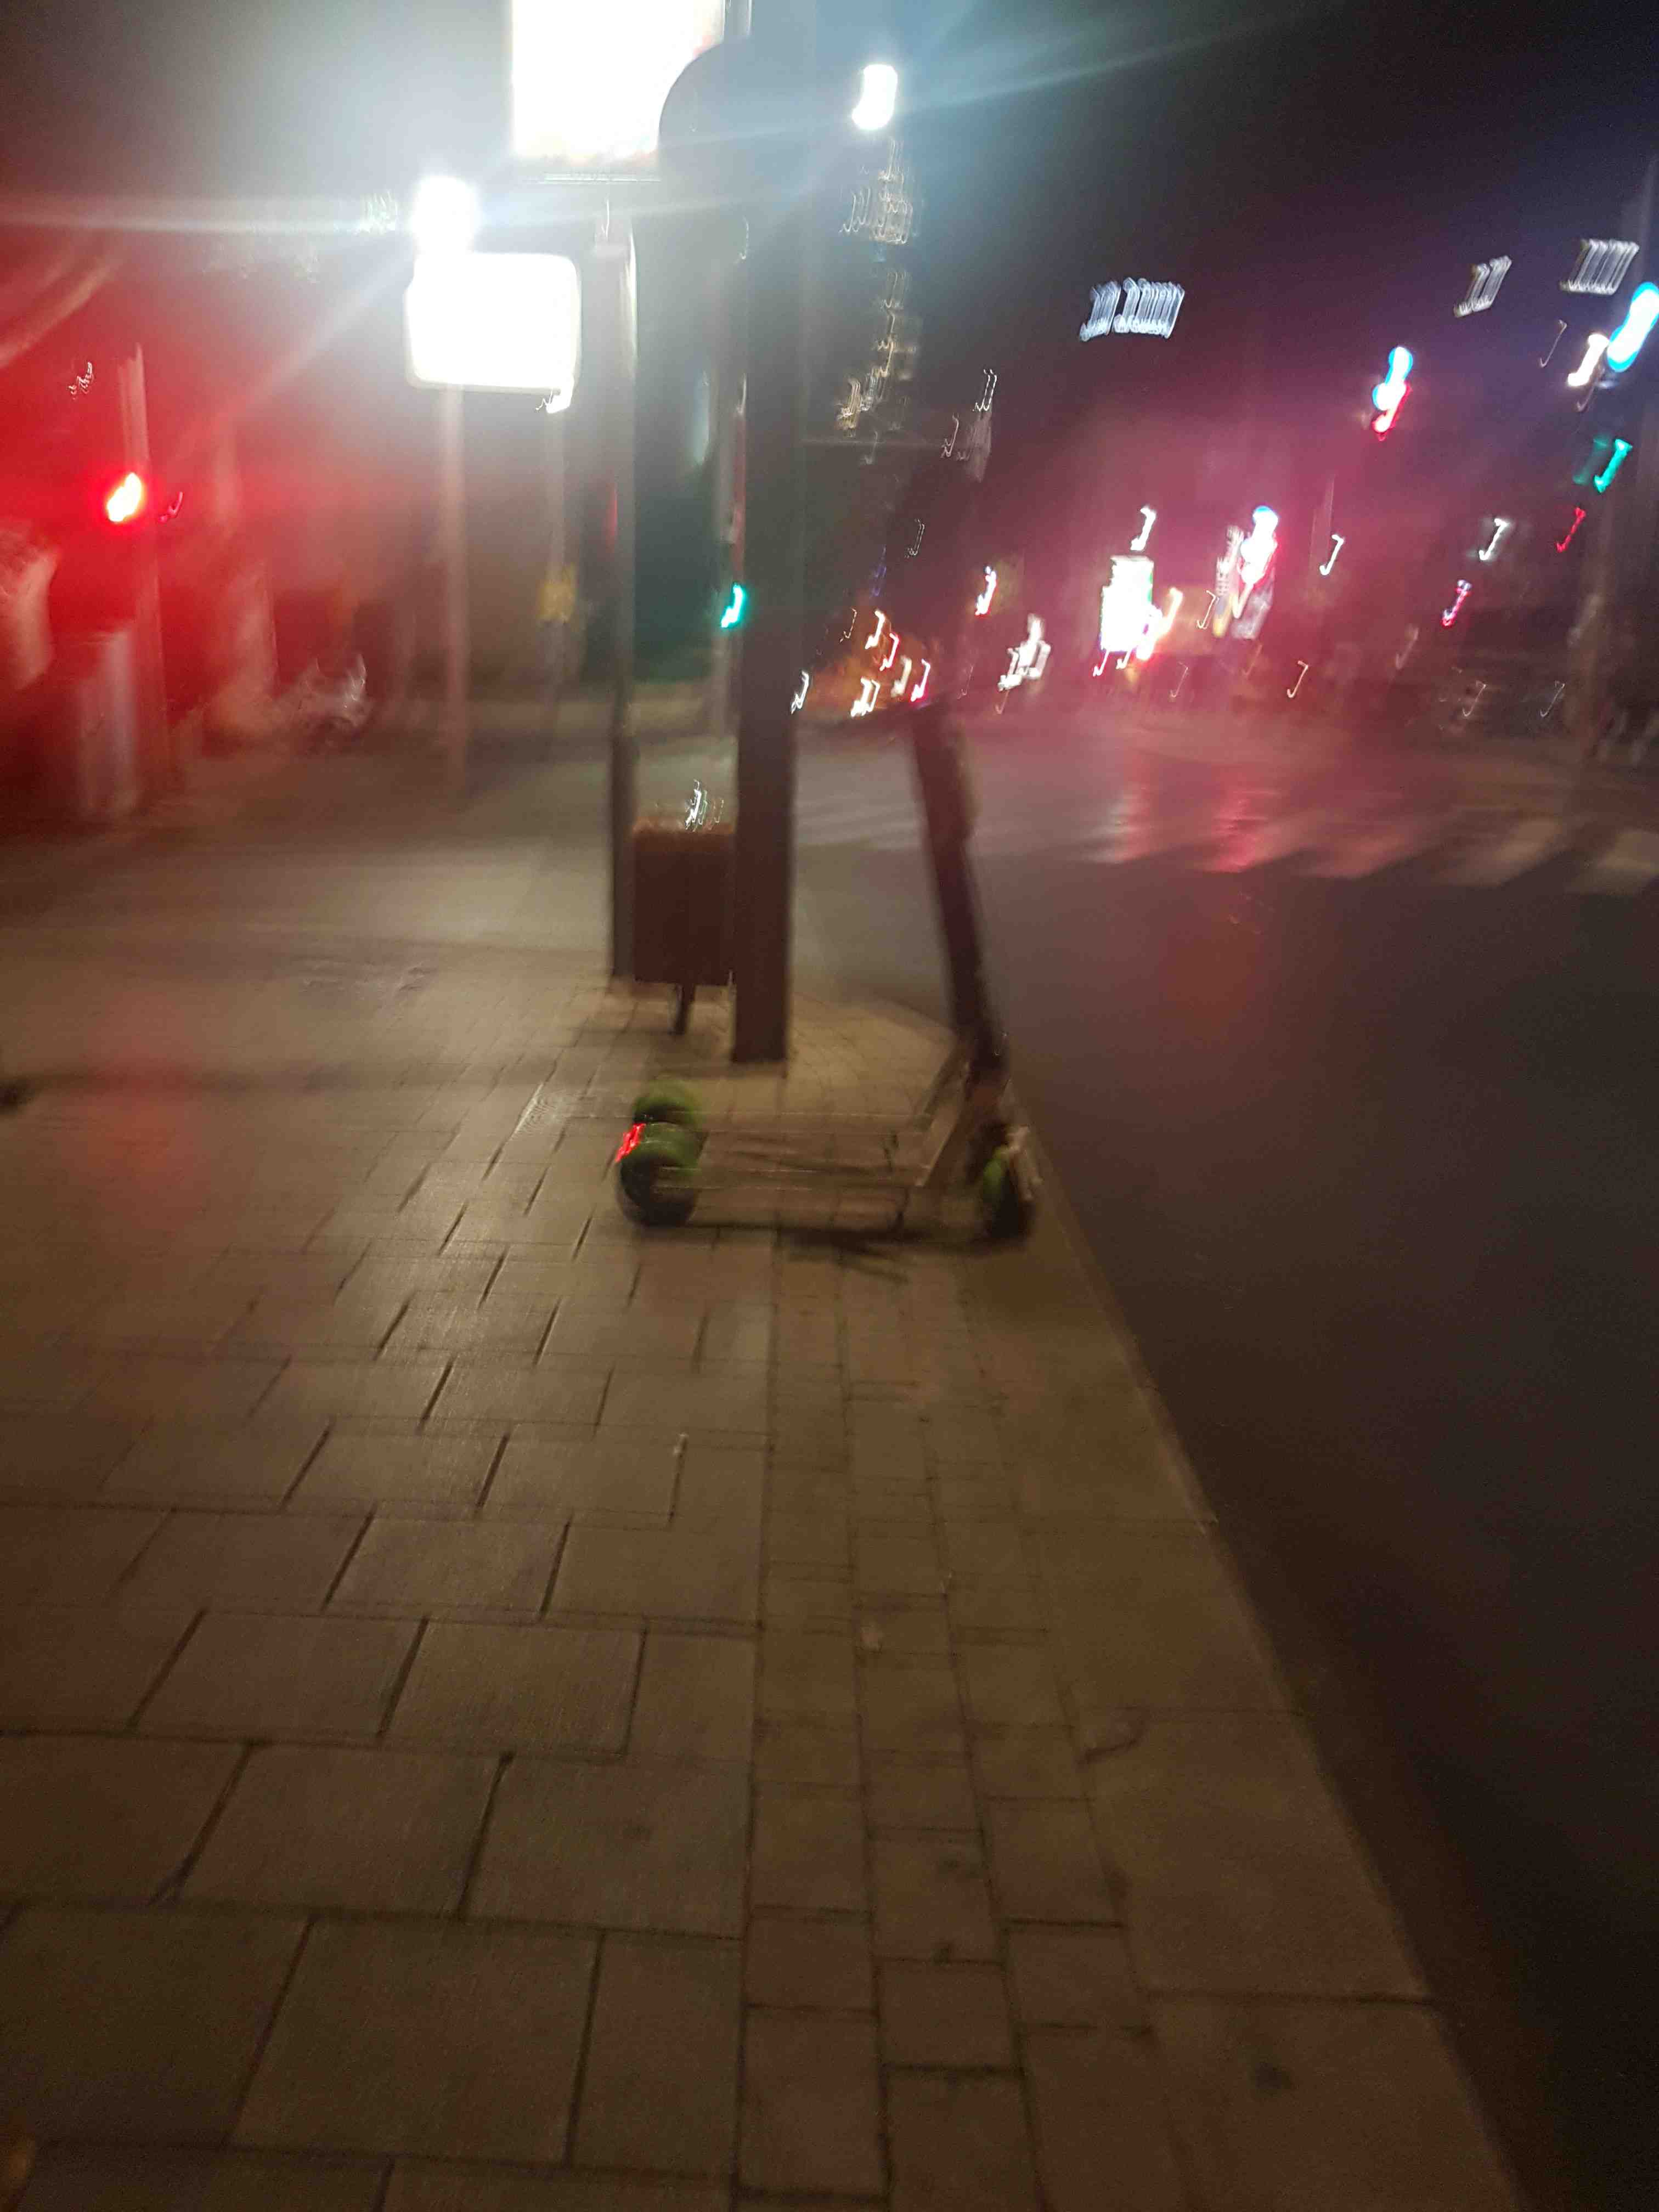too close: (918, 1104, 1122, 1284)
